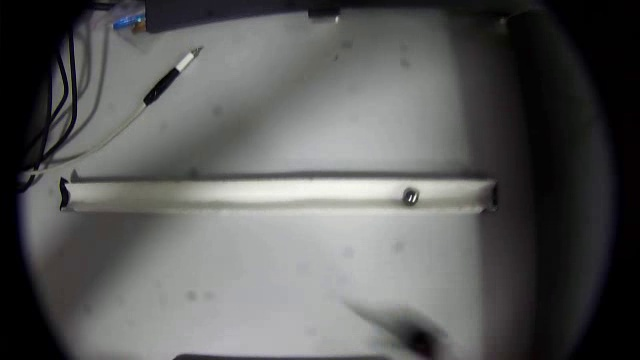gangzhu: (402, 188, 419, 207)
